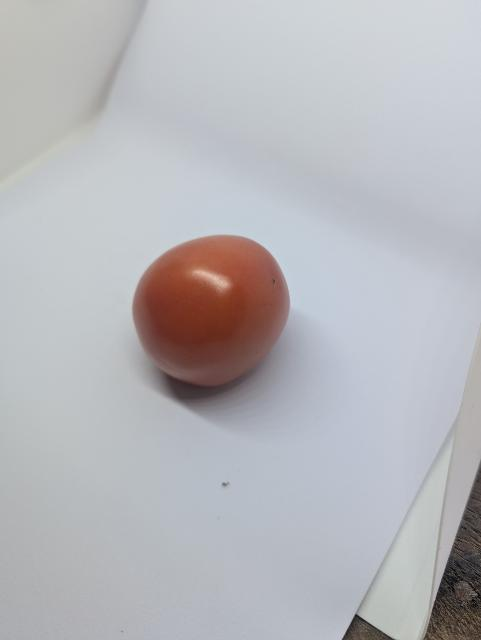red: (130, 233, 293, 395)
